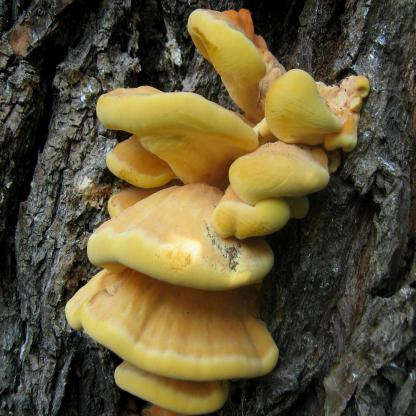CoW: (66, 8, 370, 414)
